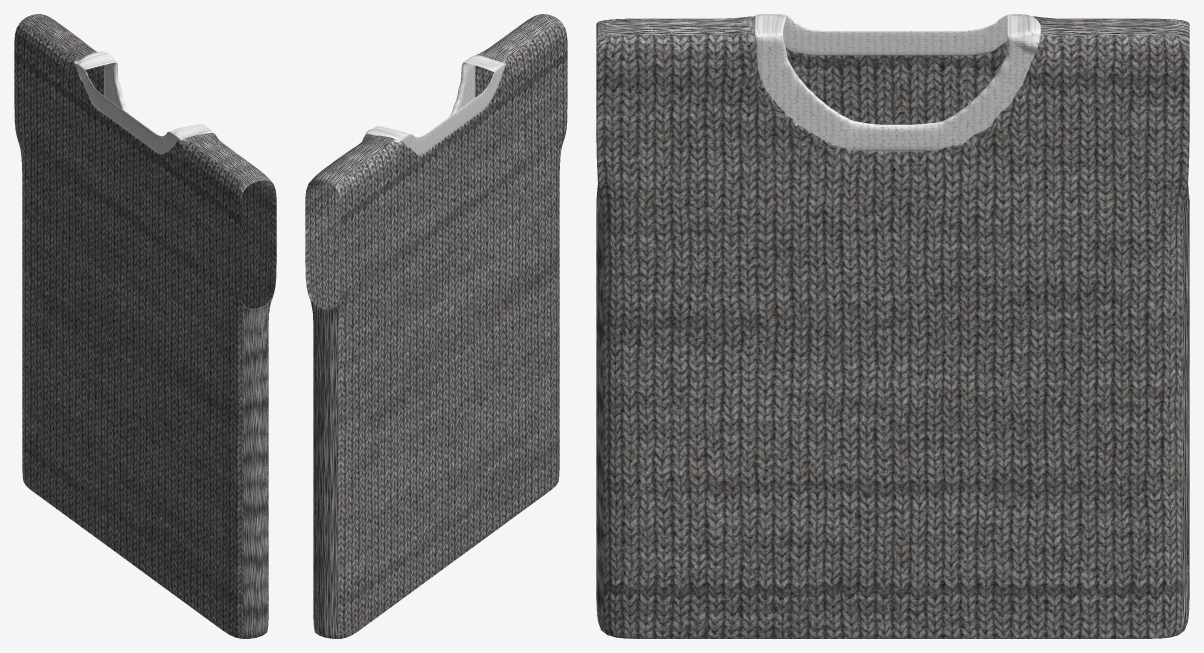
Rendered from round-neck-deep.glb.
3 renders of one model, left to right at view 1: azimuth 30°, elevation 25°; view 2: azimuth 150°, elevation 25°; view 3: azimuth 270°, elevation 25°, orthographic. The views are drawn at different scales.
Parts seen in each view (by area): view 1: Cube.001, Plane.002, Plane.001; view 2: Cube.001, Plane.002, Plane.001; view 3: Cube.001, Plane.001, Plane.002.
Part boxes in pixels (x1=…): Cube.001: x1=14, y1=14, x2=276, y2=638; Plane.002: x1=76, y1=64, x2=181, y2=154; Plane.001: x1=74, y1=51, x2=213, y2=139; Cube.001: x1=305, y1=14, x2=567, y2=638; Plane.002: x1=401, y1=63, x2=505, y2=155; Plane.001: x1=363, y1=55, x2=504, y2=142; Cube.001: x1=596, y1=15, x2=1189, y2=638; Plane.001: x1=754, y1=15, x2=1040, y2=151; Plane.002: x1=755, y1=14, x2=1029, y2=55.
Bounding box in the file's own units: 0.1526 × 1.79 × 1.59.
2 materials, 2 textured.
